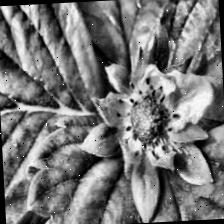Blossom Blight: (111, 72, 185, 162)
